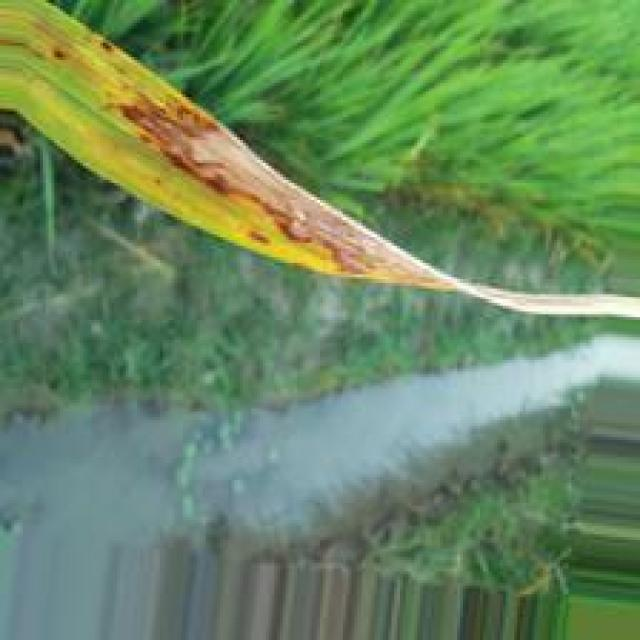Rice False Smut: (103, 91, 463, 287)
